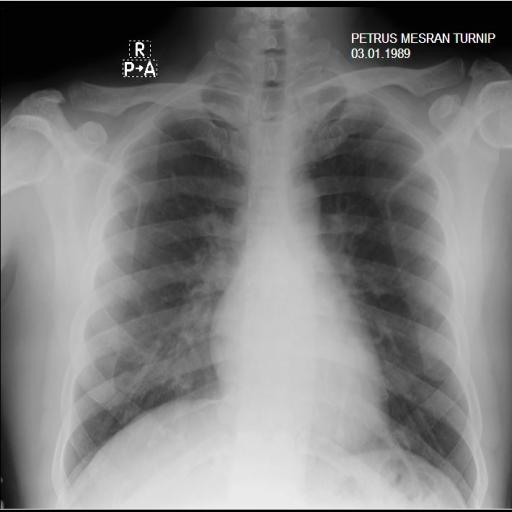normal: (54, 46, 492, 502)
